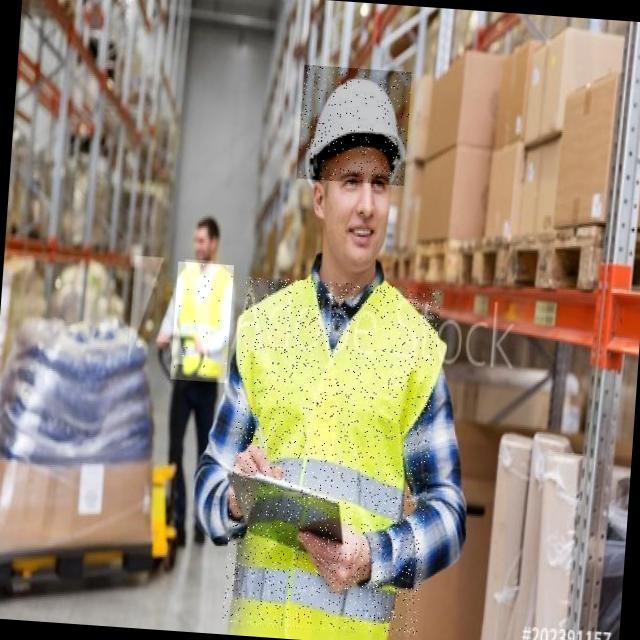Helmet: (296, 65, 412, 186)
Person: (240, 38, 486, 640), (154, 184, 239, 566)
Safety Vest: (240, 279, 459, 640), (170, 261, 234, 383)
bare-arms: (300, 510, 377, 609), (214, 433, 282, 512)
no-helmet: (190, 214, 221, 241)
